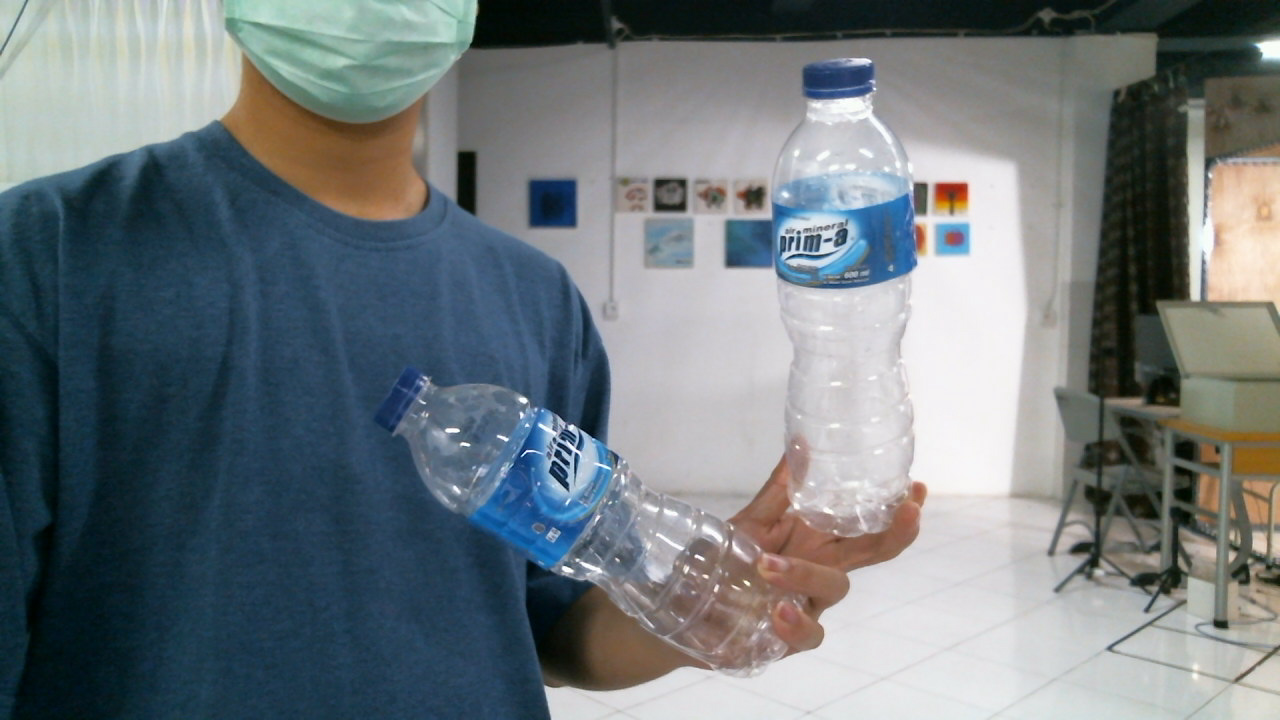Bottle: (369, 366, 800, 667), (764, 52, 920, 545)
